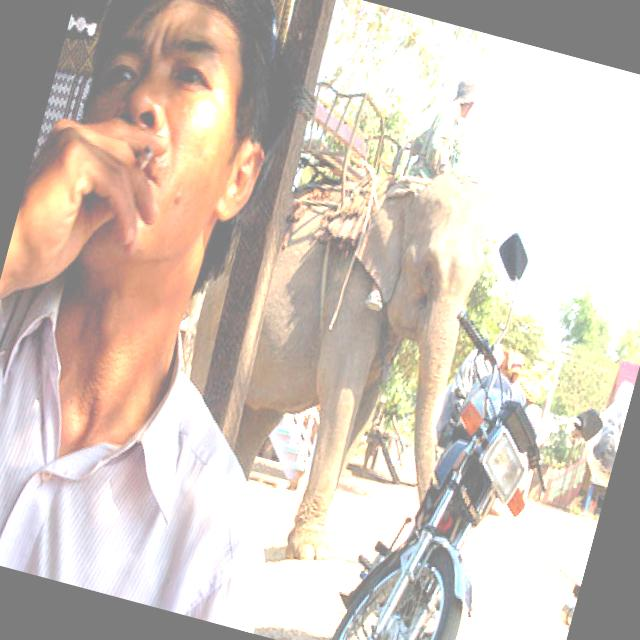Vehicle: (316, 204, 612, 640)
